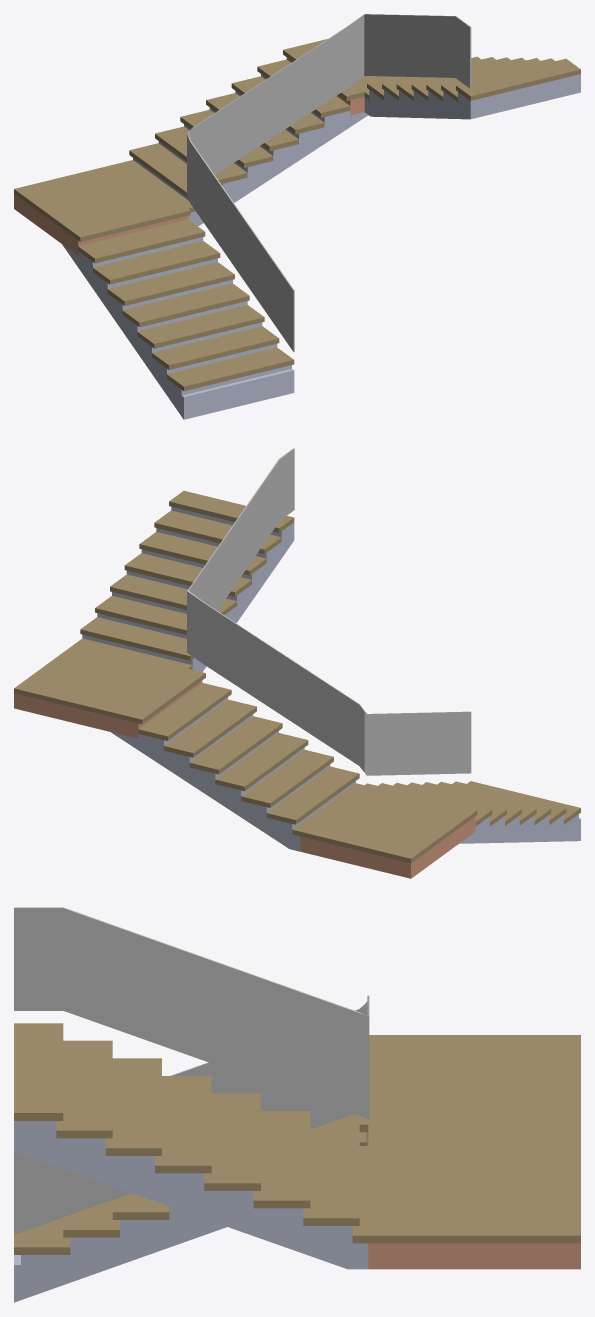
Rendered from 231110AC11-Institute-Var-2-IFC_Erdgeschoss_IfcStair.dae.
3 views of the same model, one above another, from view 1: azimuth 30°, elevation 25°; view 2: azimuth 150°, elevation 25°; view 3: azimuth 270°, elevation 25° (orthographic). The views are drawn at different scales.
Visible parts, largest first — view 1: 1Kl5_Wzb98HOSGZ8eaBX2f; view 2: 1Kl5_Wzb98HOSGZ8eaBX2f; view 3: 1Kl5_Wzb98HOSGZ8eaBX2f.
Boxes of the visible parts, x1,y1,x2,y2 form: 1Kl5_Wzb98HOSGZ8eaBX2f: (14,14,580,419); 1Kl5_Wzb98HOSGZ8eaBX2f: (14,448,580,878); 1Kl5_Wzb98HOSGZ8eaBX2f: (14,907,580,1302).
Size of the model in its own units: 5.4 by 4 by 4.19.
